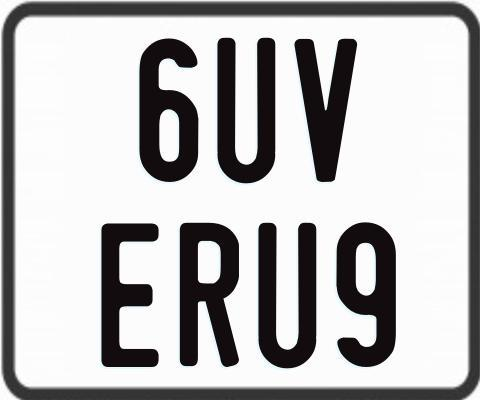6: (137, 37, 202, 181)
9: (335, 220, 399, 368)
E: (98, 222, 161, 368)
R: (180, 221, 242, 371)
U: (214, 35, 277, 186), (258, 220, 320, 371)
V: (295, 36, 357, 180)
